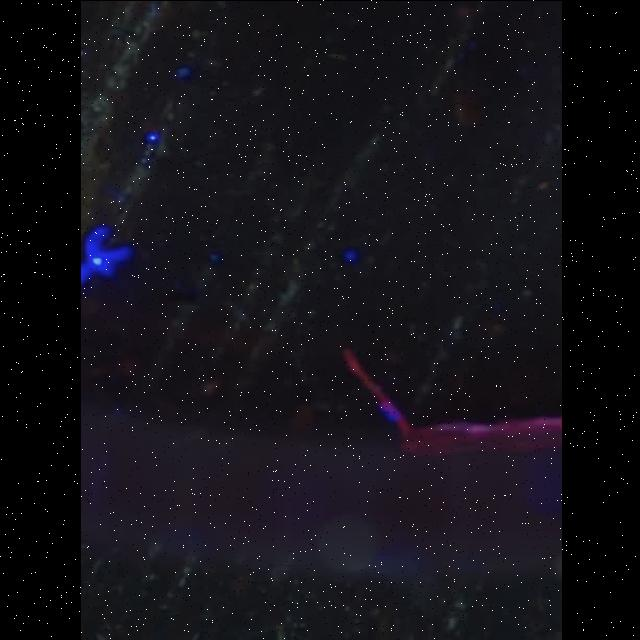Fibre: (342, 348, 411, 438)
